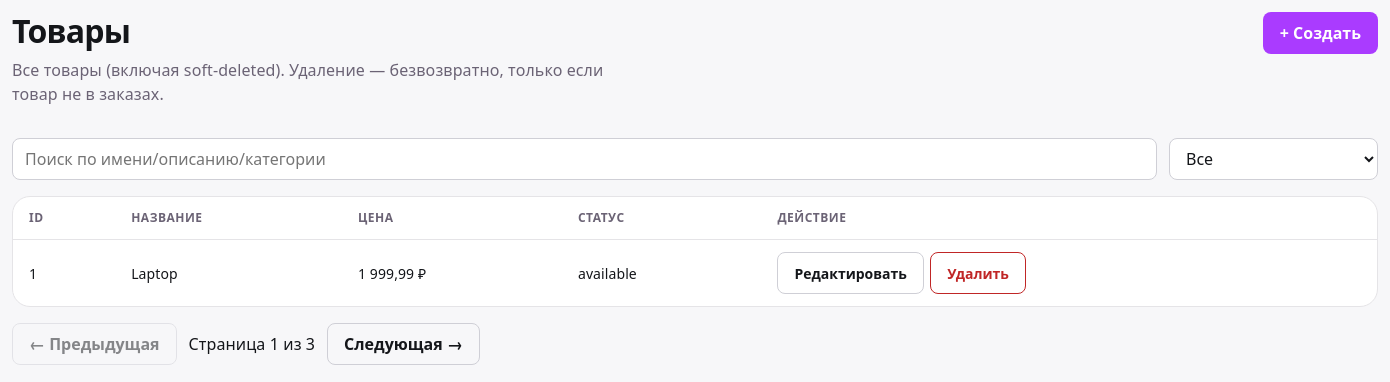
it: AdminProductsPage › пагинация: вперёд/назад и границы
This screenshot has width=1390, height=382.
Expected: the text "Страница 1 из 3" is shown, [188, 333, 315, 355]
Expected: the button "← Предыдущая" is disabled, [12, 323, 176, 365]
Click the button "Следующая →".
click(404, 344)  # box [327, 323, 480, 365]
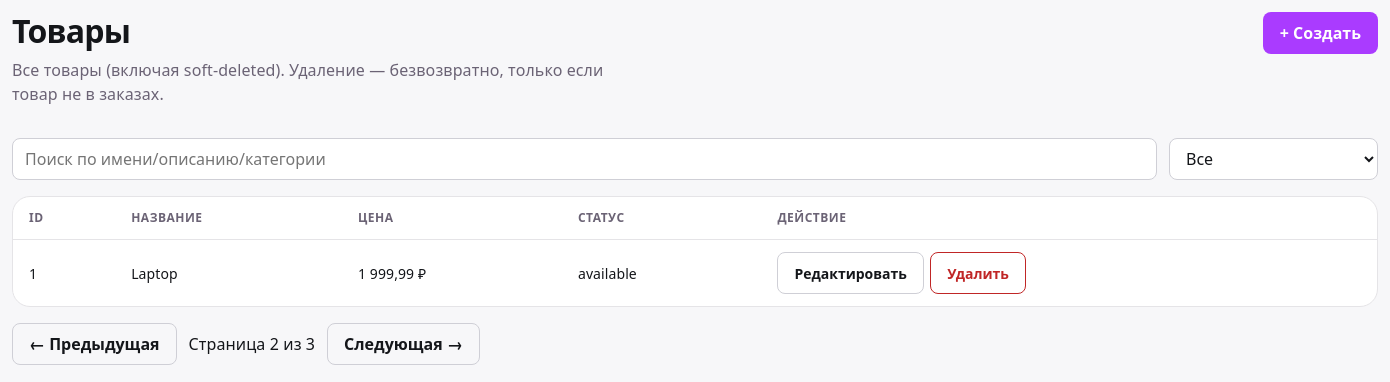
Now the text "Страница 2 из 3" is shown, box [188, 333, 315, 355]
Now the button "← Предыдущая" is enabled, box [12, 323, 176, 365]
Click the button "Следующая →".
click(404, 344)  # box [327, 323, 480, 365]
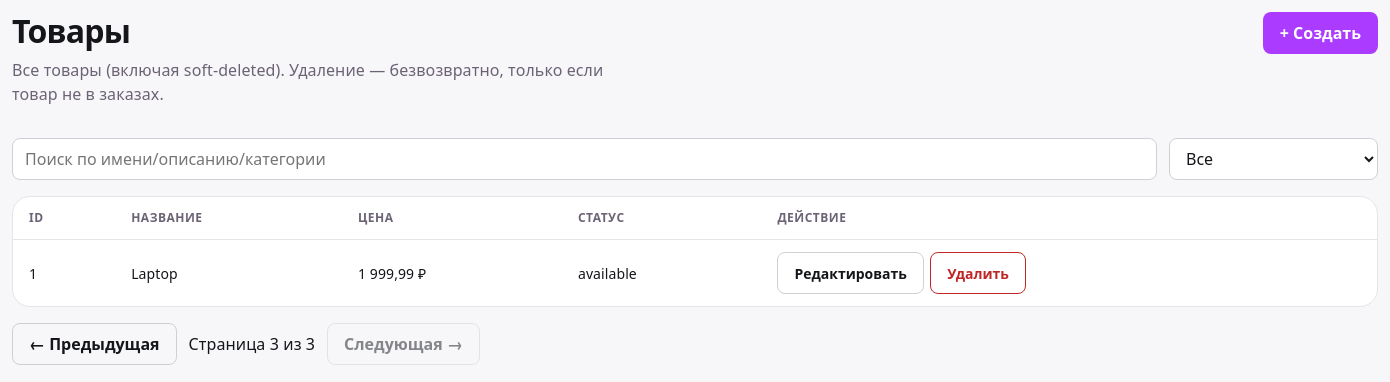
Now the text "Страница 3 из 3" is shown, box [188, 333, 315, 355]
Now the button "Следующая →" is disabled, box [327, 323, 480, 365]
Click the button "← Предыдущая".
click(94, 344)  # box [12, 323, 176, 365]
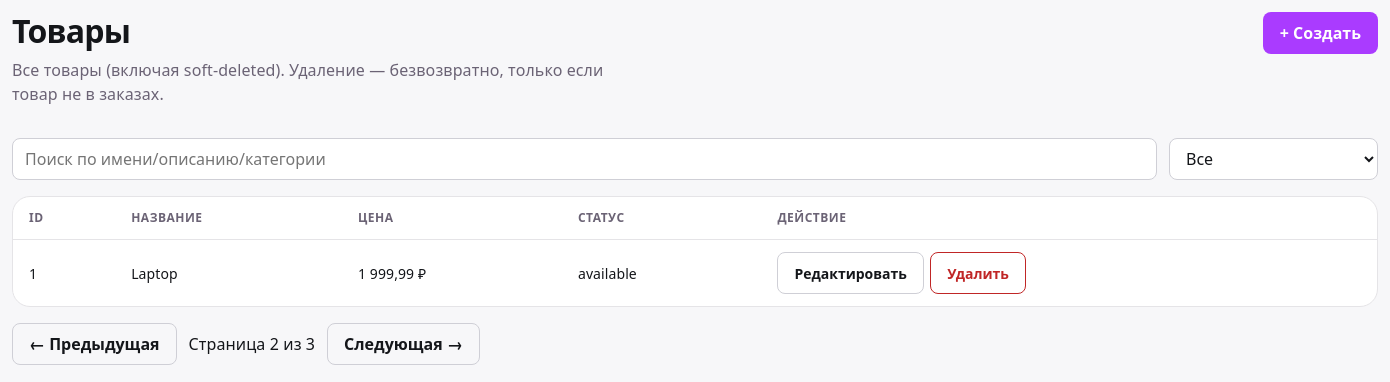
Now the text "Страница 2 из 3" is shown, box [188, 333, 315, 355]
